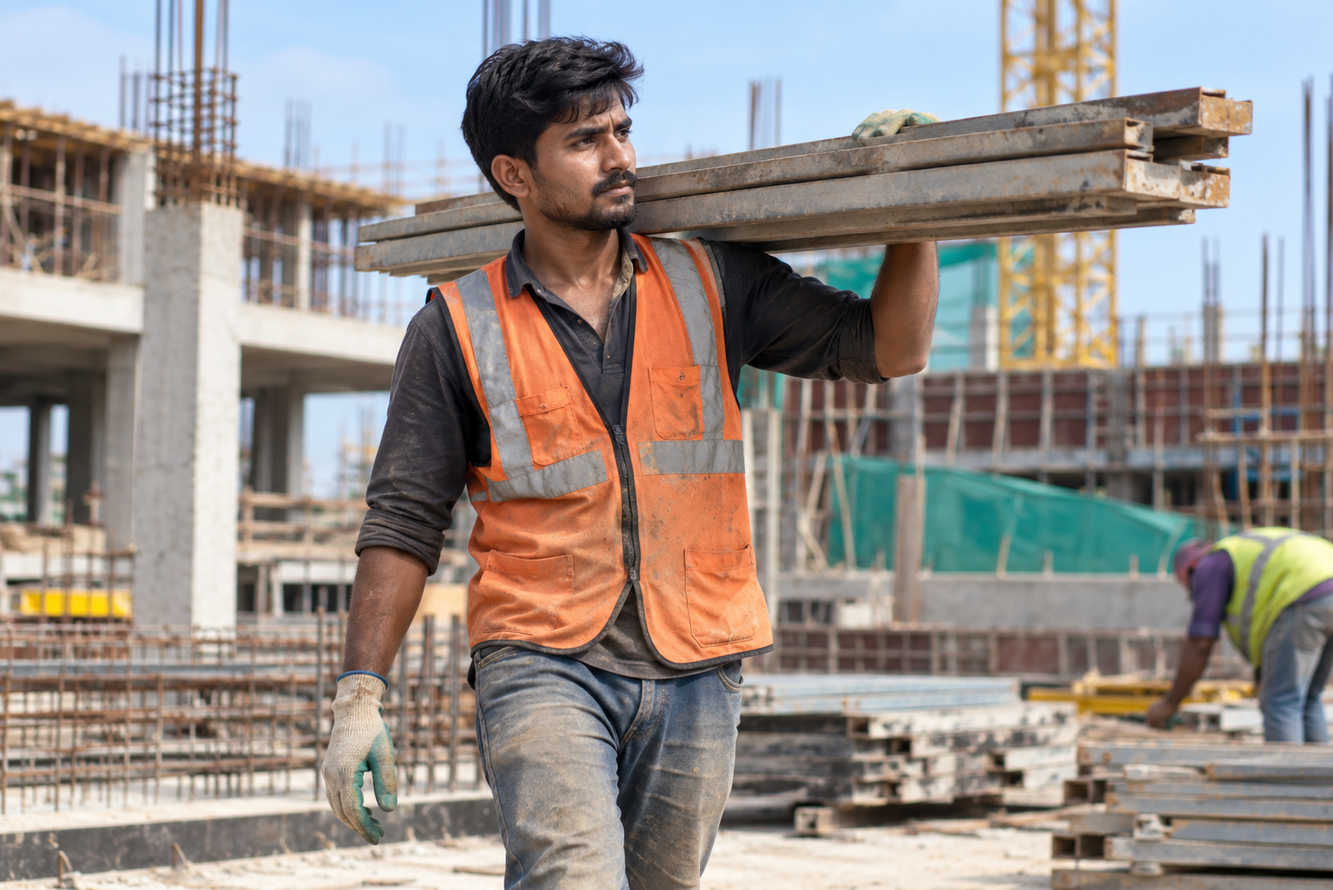no_hardhat: (460, 38, 652, 130), (1168, 518, 1210, 594)
person: (292, 38, 810, 884), (1134, 478, 1330, 724)
safety_vest: (434, 268, 764, 650), (1214, 532, 1314, 684)
